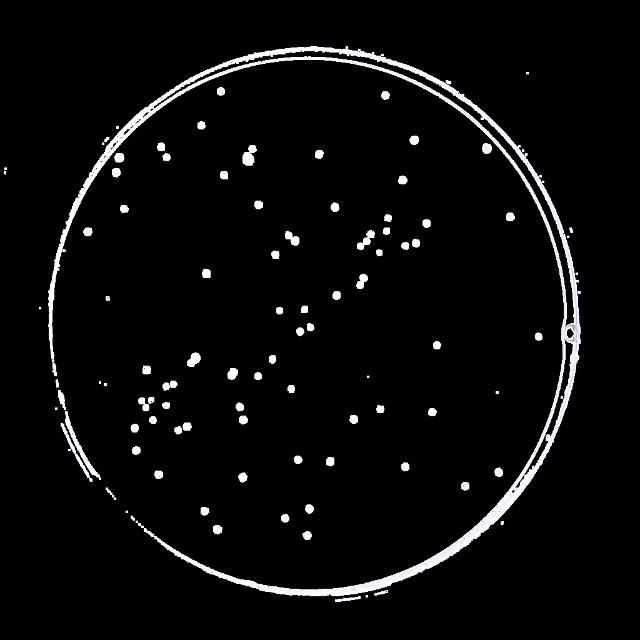colony: (222, 363, 242, 383), (136, 362, 152, 380), (426, 405, 440, 425), (393, 172, 412, 186), (240, 152, 256, 168), (346, 412, 362, 428), (479, 141, 495, 157), (430, 337, 444, 355), (504, 208, 518, 226), (286, 382, 298, 401), (312, 148, 328, 162), (290, 234, 304, 250), (182, 358, 198, 372), (191, 350, 205, 366), (236, 470, 250, 486), (265, 352, 279, 368), (374, 402, 388, 418), (458, 480, 472, 496), (378, 88, 392, 104), (411, 235, 424, 251), (252, 199, 266, 213), (200, 268, 214, 282), (168, 378, 182, 392), (152, 468, 166, 482), (211, 523, 225, 537), (250, 371, 264, 385), (272, 304, 286, 318), (293, 326, 307, 340), (532, 328, 546, 342), (408, 134, 422, 148), (214, 83, 226, 99), (304, 500, 316, 516), (236, 414, 252, 426), (328, 290, 344, 302), (233, 401, 247, 414), (491, 465, 504, 479), (158, 401, 174, 412), (82, 227, 95, 240), (113, 152, 127, 164), (118, 203, 130, 217), (246, 142, 258, 156), (329, 201, 341, 215), (270, 247, 282, 261), (172, 424, 184, 438), (182, 420, 194, 434), (301, 530, 315, 542), (292, 454, 304, 468), (324, 456, 338, 468), (296, 304, 310, 316), (304, 321, 318, 333), (398, 462, 412, 474), (421, 217, 433, 231), (197, 119, 210, 131), (218, 170, 230, 182), (128, 422, 140, 434), (131, 444, 143, 456), (199, 506, 211, 518), (382, 212, 394, 224), (354, 280, 366, 292), (109, 168, 123, 178), (280, 512, 290, 526), (364, 229, 378, 239), (401, 240, 412, 252), (381, 226, 392, 238), (161, 152, 173, 162), (283, 230, 293, 242), (136, 394, 146, 406), (160, 381, 170, 393), (148, 414, 158, 426), (361, 236, 373, 246), (356, 240, 366, 252), (358, 272, 369, 282), (156, 142, 166, 152), (376, 246, 384, 258), (146, 396, 156, 404), (142, 403, 150, 411)
